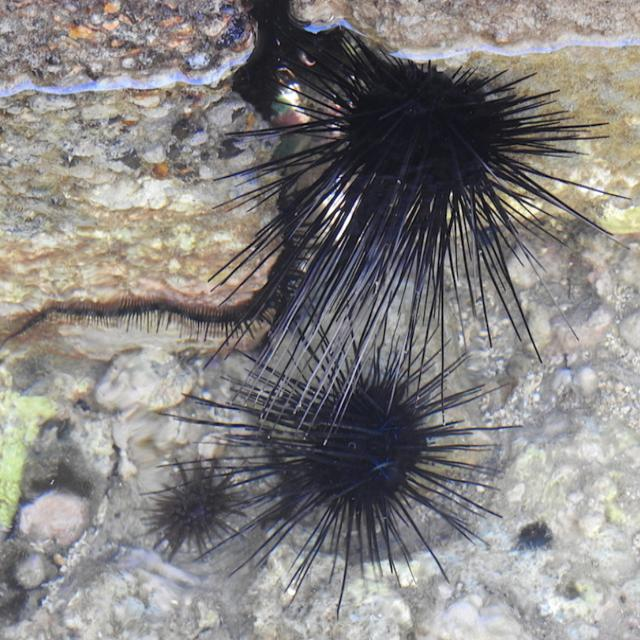Urchin: (252, 38, 595, 346), (227, 325, 476, 566), (145, 451, 250, 558)
